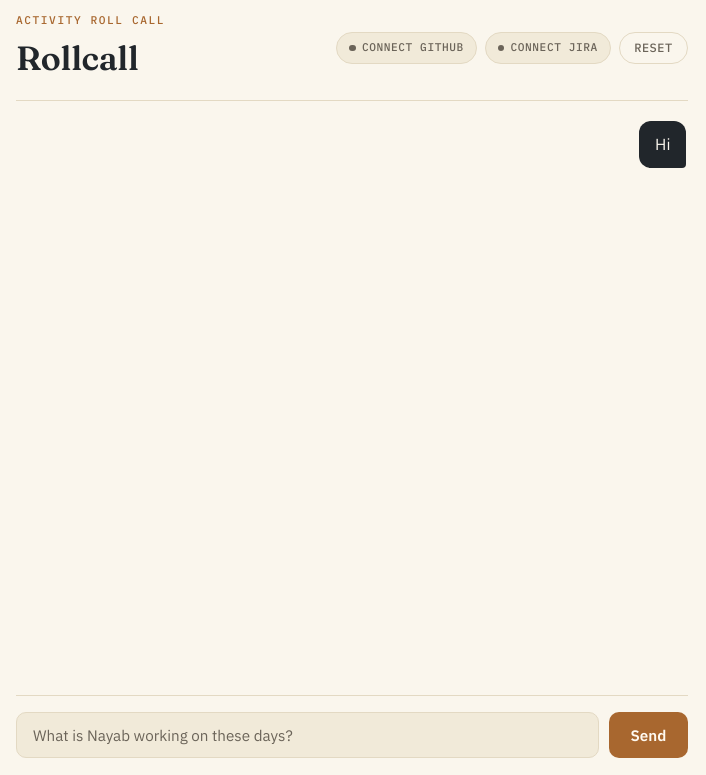
Scenario: reset chat › shows an error when the reset request fails
The image size is (706, 775).
expect the text "Hi" is shown: met, box [639,121,686,168]
Click the button "Reset". click: coordinates (653, 48)
box: [619,32,688,64]
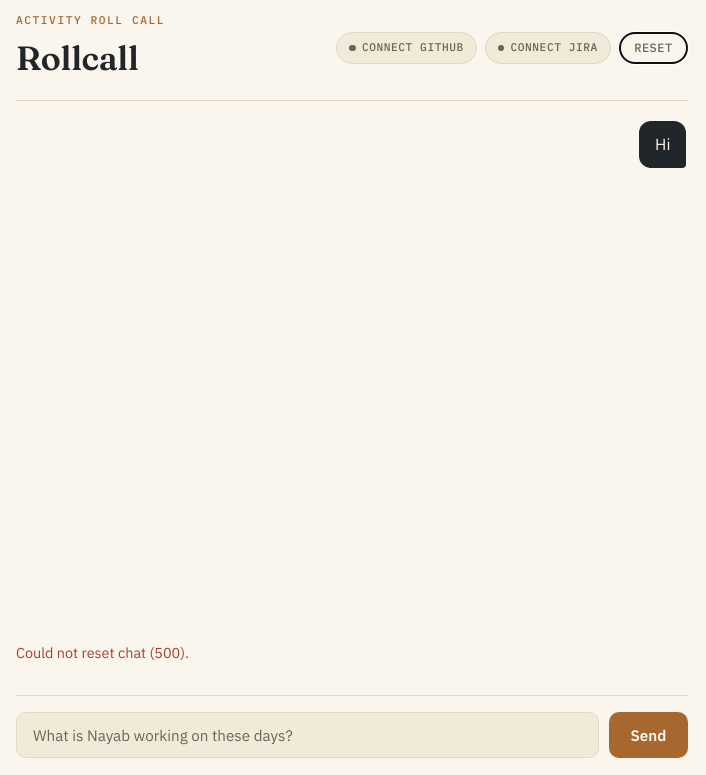
expect the text "Hi" is shown: met, box [639,121,686,168]
expect the text "Could not reset chat (500)." is shown: met, box [16,643,189,662]
